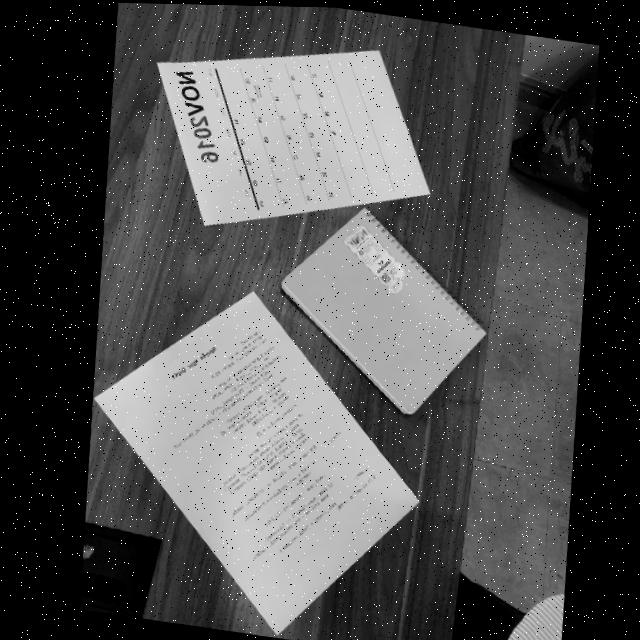document: (94, 292, 418, 634), (157, 51, 428, 225), (281, 207, 485, 413)
